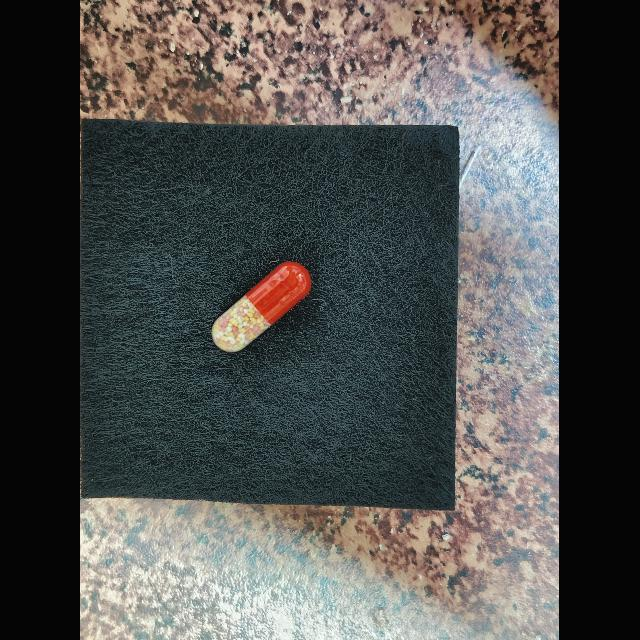Intact Capsule: (212, 261, 312, 353)
